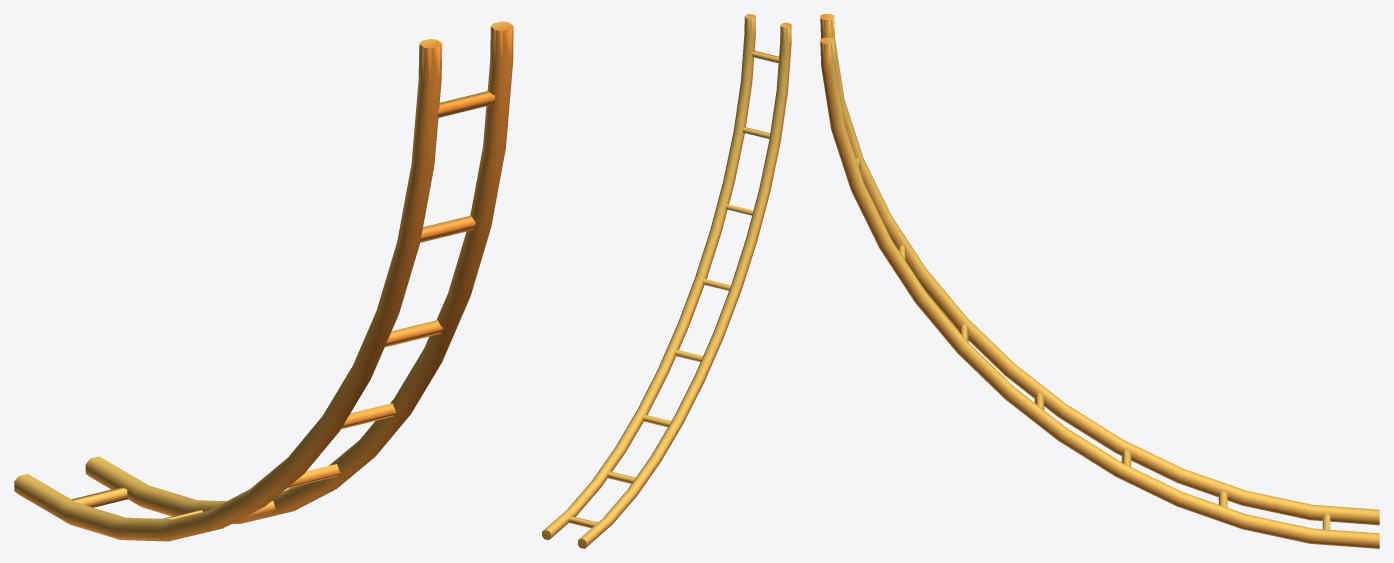
File: coaster-mouse-straight-bend-large.glb
3 renders of one model, left to right at view 1: azimuth 30°, elevation 25°; view 2: azimuth 150°, elevation 25°; view 3: azimuth 270°, elevation 25°, orthographic. The views are drawn at different scales.
Visible parts, largest first — view 1: coaster-mouse-straight-bend-large; view 2: coaster-mouse-straight-bend-large; view 3: coaster-mouse-straight-bend-large.
Boxes of the visible parts, x1,y1,x2,y2 form: coaster-mouse-straight-bend-large: (14,21,513,541); coaster-mouse-straight-bend-large: (542,14,791,548); coaster-mouse-straight-bend-large: (820,14,1379,548).
Size of the model in its own units: 1.5 by 12 by 12.
1 material, 1 textured.
